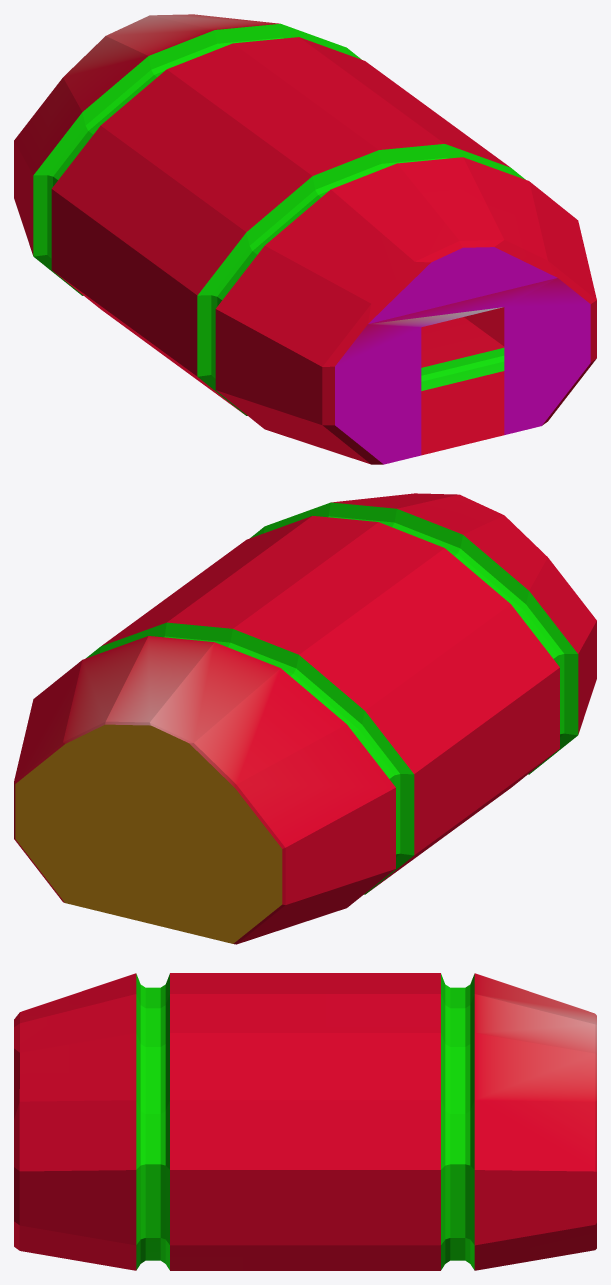
File: commandRoom_Low.fbx
3 renders of one model, top to bottom at view 1: azimuth 30°, elevation 25°; view 2: azimuth 150°, elevation 25°; view 3: azimuth 270°, elevation 25°, orthographic. The views are drawn at different scales.
Parts seen in each view (by area): view 1: SubInteriorLowPoly; view 2: SubInteriorLowPoly; view 3: SubInteriorLowPoly.
Part boxes in pixels (x1,y1,x2,y2): SubInteriorLowPoly: [14, 14, 596, 464]; SubInteriorLowPoly: [14, 493, 596, 944]; SubInteriorLowPoly: [14, 973, 596, 1270].
Bounding box in the file's own units: 900 × 554 × 1350.
